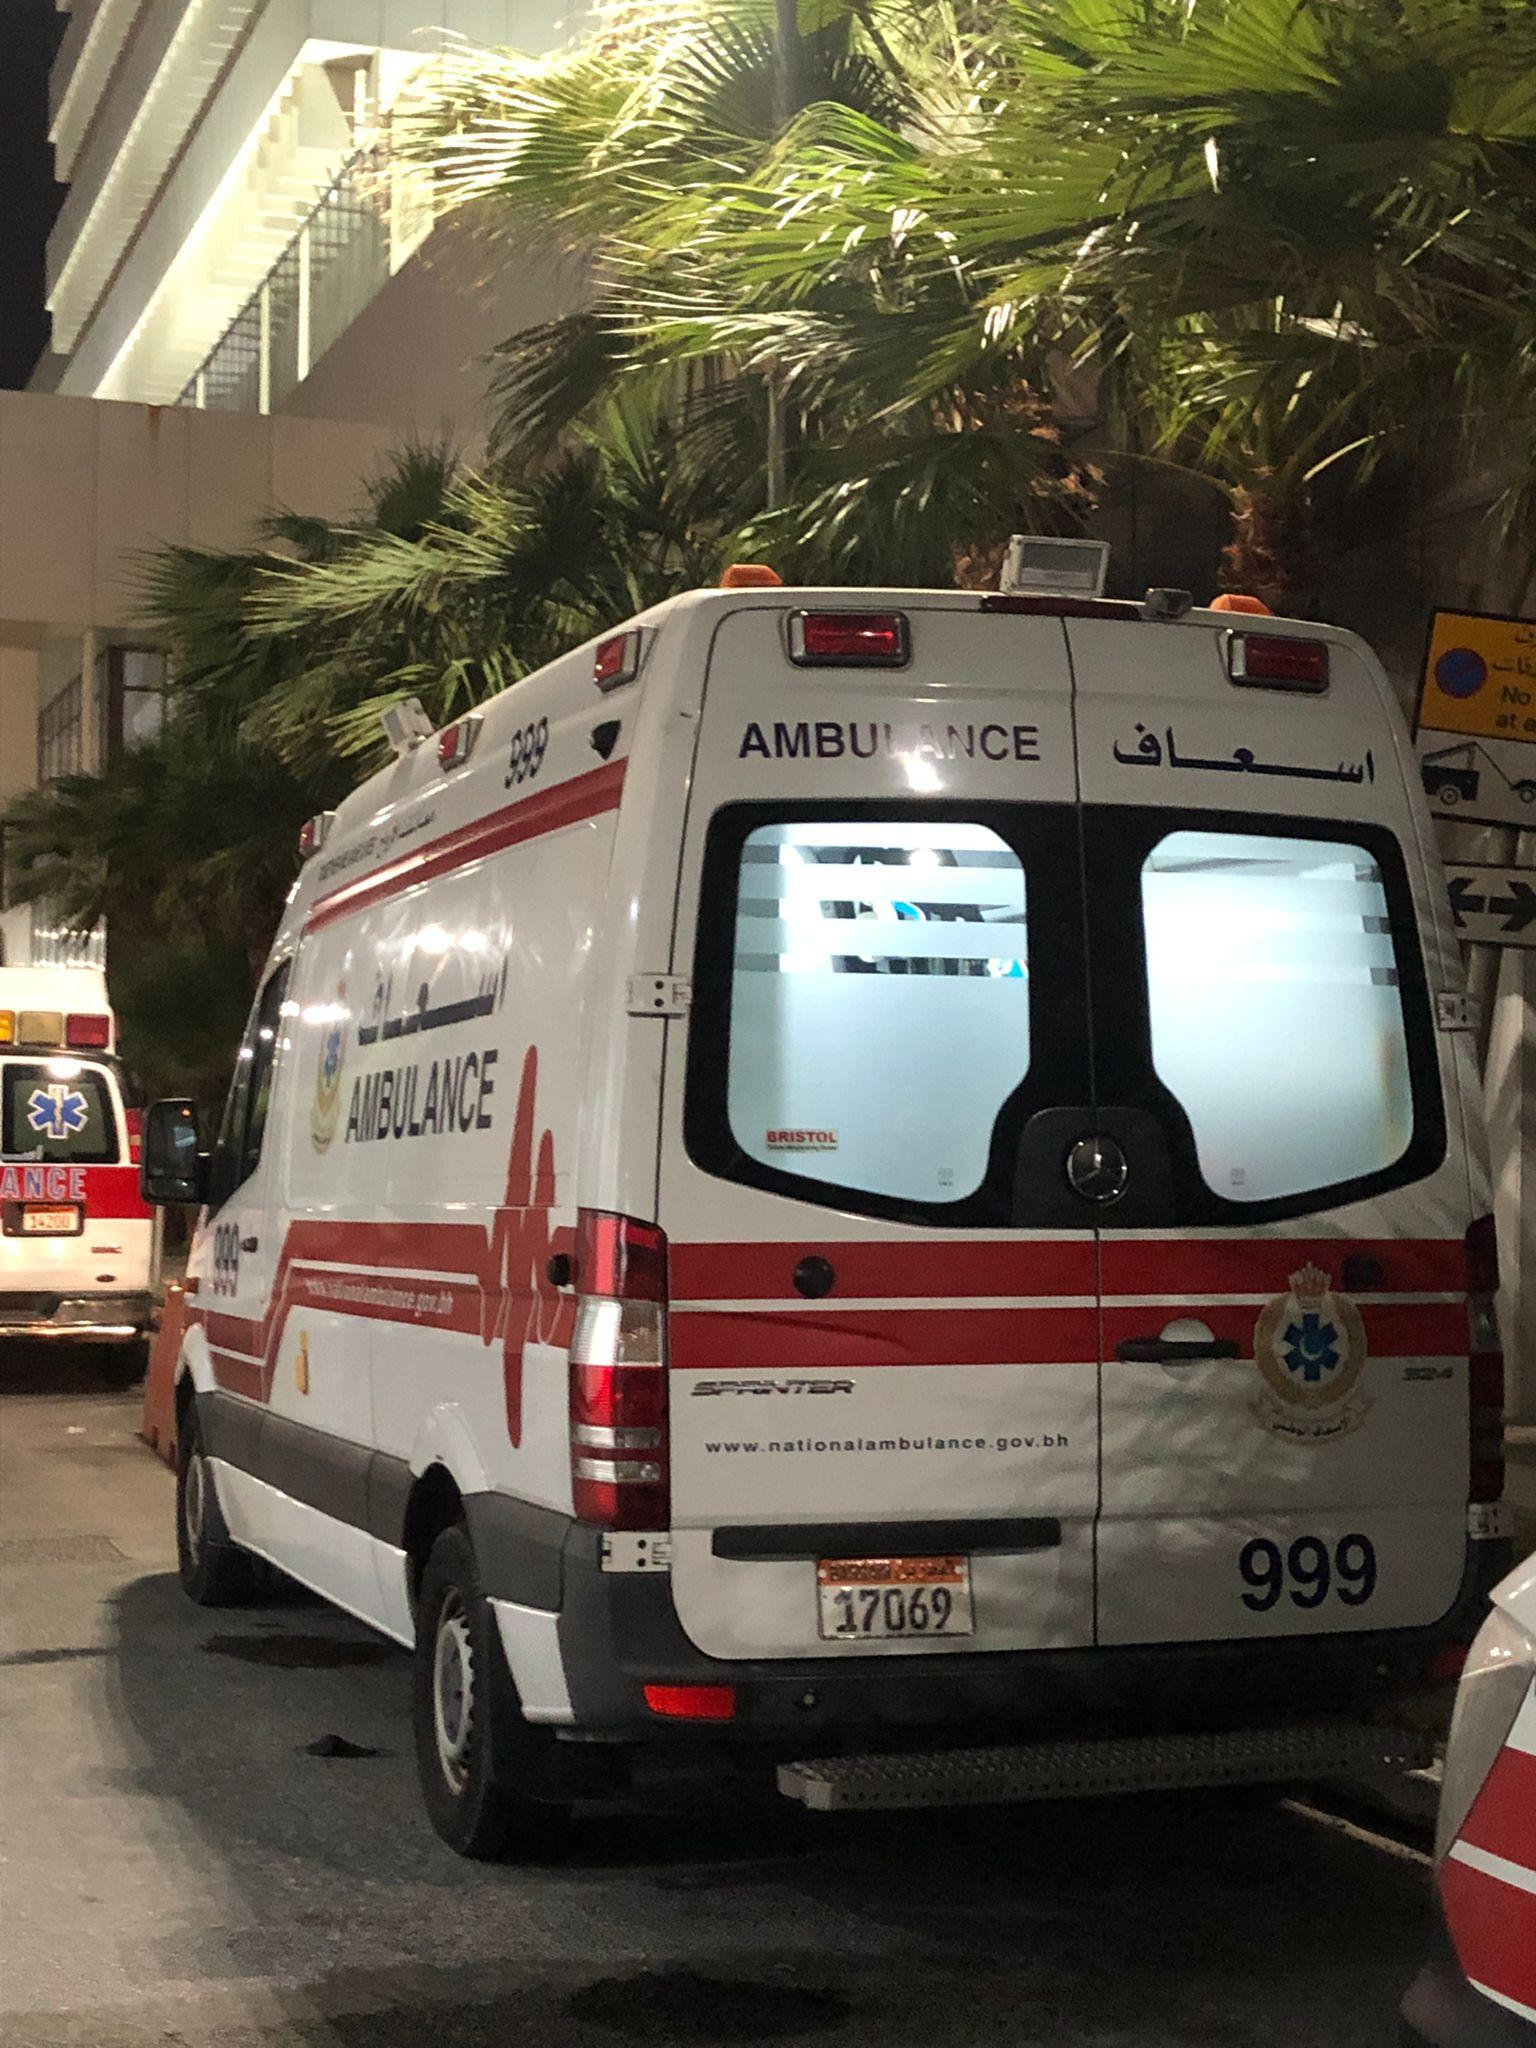ambulance_off: (150, 528, 1508, 1856), (0, 966, 177, 1372)
